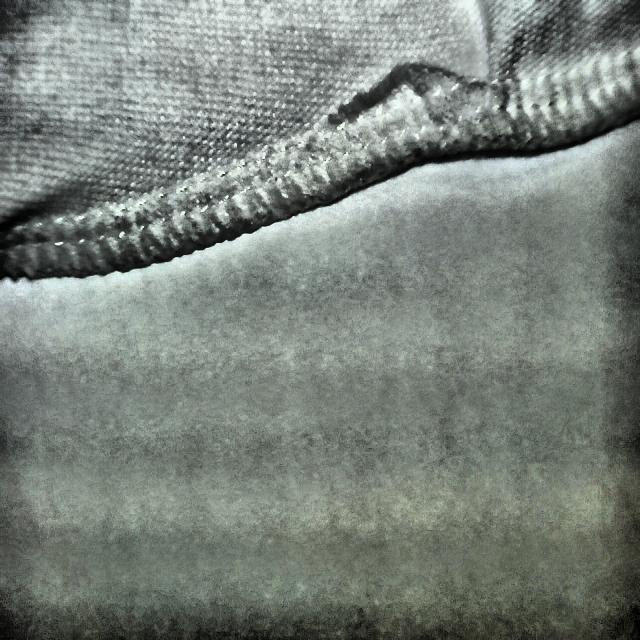seam: (339, 29, 521, 167)
